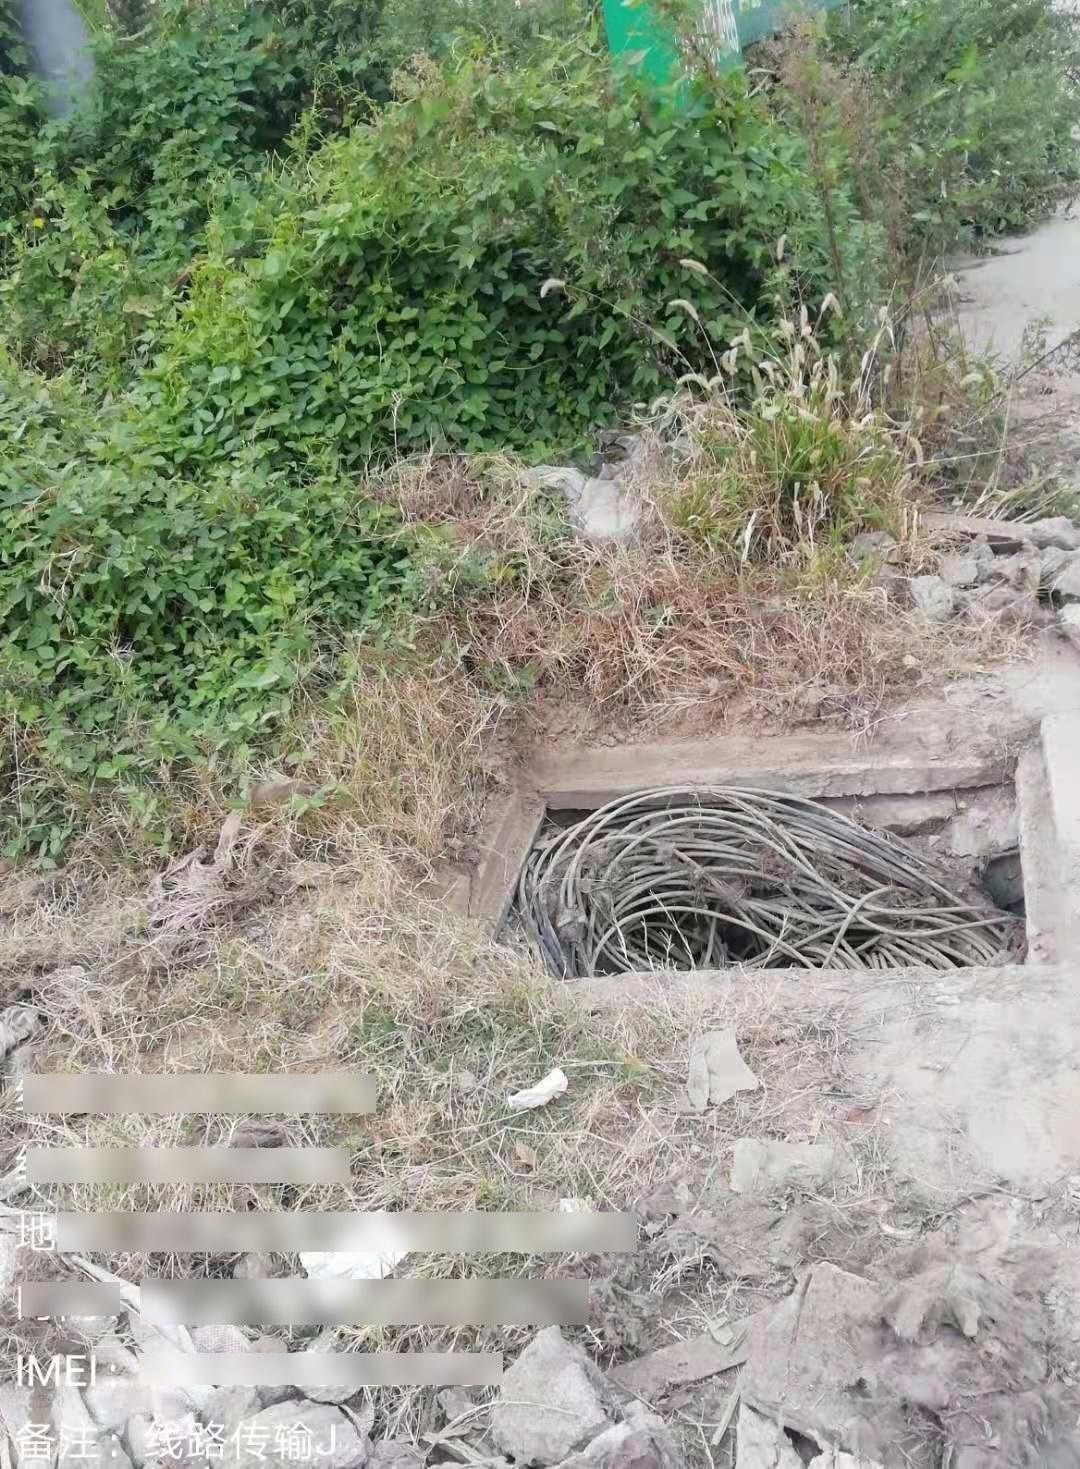lose: (454, 724, 1067, 977)
